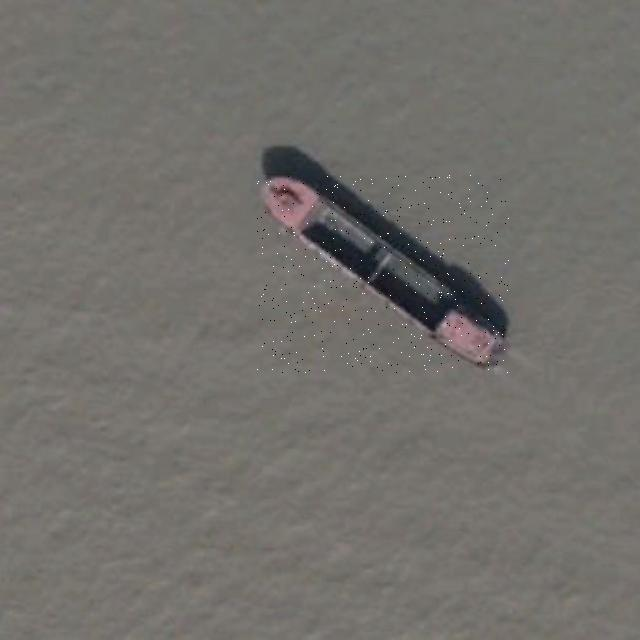boat: (257, 175, 509, 374)
